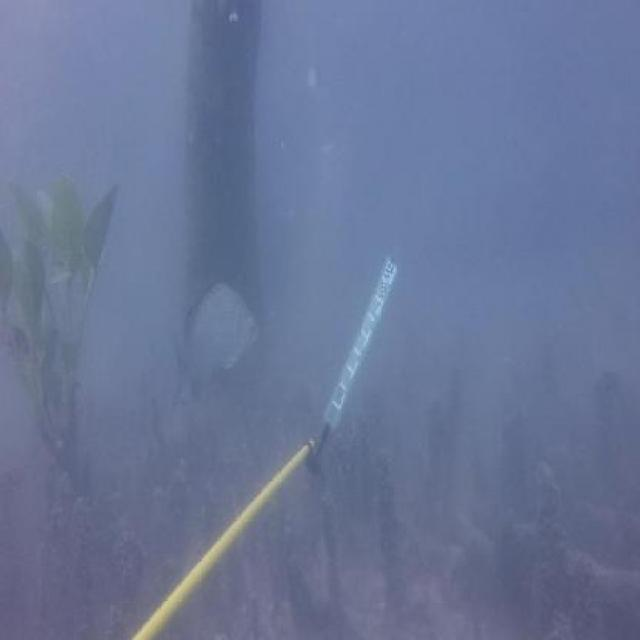acanthopagrus_palmaris: (158, 273, 262, 427)
